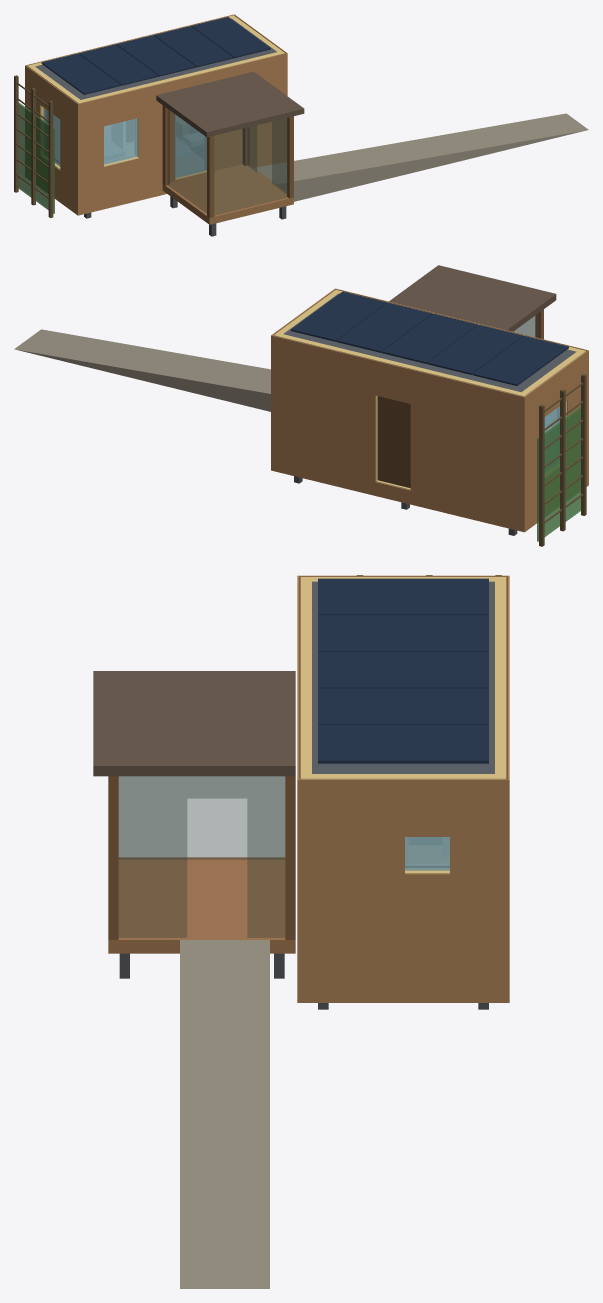
File: cabin-20.obj
The picture shows the model from 3 angles, top to bottom: view 1: azimuth 30°, elevation 25°; view 2: azimuth 150°, elevation 25°; view 3: azimuth 270°, elevation 25°; orthographic projection. The views are drawn at different scales.
Parts seen in each view (by area): view 1: south_rainscreen, ramp_porch-ramp, main_pv, porch_screened-porch_screen_south, porch_screened-porch_roof, porch_screened-porch_deck, west_rainscreen, porch_screened-porch_screen_west, trellis_planting, porch_screened-porch_posts, trellis_posts, opening_D2 (+10 smaller); view 2: north_rainscreen, main_pv, ramp_porch-ramp, porch_screened-porch_roof, west_rainscreen, trellis_planting, opening_D1, trellis_posts, main_roof-membrane, north_ext-insulation, trellis_rails, south_rainscreen (+1 smaller); view 3: east_rainscreen, main_pv, ramp_porch-ramp, porch_screened-porch_roof, porch_screened-porch_screen_east, porch_screened-porch_deck, porch_screened-porch_screen_west, main_roof-membrane, porch_screened-porch_posts, north_ext-insulation, south_ext-insulation, opening_W3 (+2 smaller).
Boxes of the visible parts, left/top/right/bottom form: south_rainscreen: left=77, top=53, right=287, bottom=215; ramp_porch-ramp: left=254, top=113, right=588, bottom=201; main_pv: left=41, top=17, right=270, bottom=94; porch_screened-porch_screen_south: left=214, top=118, right=287, bottom=215; porch_screened-porch_roof: left=156, top=71, right=304, bottom=137; porch_screened-porch_deck: left=162, top=164, right=293, bottom=224; west_rainscreen: left=25, top=65, right=77, bottom=214; porch_screened-porch_screen_west: left=167, top=109, right=206, bottom=213; trellis_planting: left=18, top=102, right=54, bottom=213; porch_screened-porch_posts: left=162, top=105, right=293, bottom=217; trellis_posts: left=14, top=75, right=53, bottom=217; opening_D2: left=175, top=114, right=206, bottom=177; north_rainscreen: left=271, top=335, right=525, bottom=532; main_pv: left=291, top=291, right=568, bottom=385; ramp_porch-ramp: left=14, top=329, right=270, bottom=411; porch_screened-porch_roof: left=389, top=265, right=556, bottom=331; west_rainscreen: left=524, top=350, right=588, bottom=531; trellis_planting: left=537, top=406, right=580, bottom=541; opening_D1: left=377, top=396, right=410, bottom=488; trellis_posts: left=539, top=374, right=586, bottom=546; main_roof-membrane: left=283, top=293, right=576, bottom=392; north_ext-insulation: left=273, top=332, right=527, bottom=489; trellis_rails: left=544, top=382, right=583, bottom=522; south_rainscreen: left=335, top=288, right=588, bottom=484; east_rainscreen: left=299, top=779, right=507, bottom=1002; main_pv: left=318, top=578, right=488, bottom=763; ramp_porch-ramp: left=180, top=940, right=269, bottom=1288; porch_screened-porch_roof: left=93, top=671, right=295, bottom=776; porch_screened-porch_screen_east: left=119, top=776, right=284, bottom=937; porch_screened-porch_deck: left=108, top=857, right=295, bottom=953; porch_screened-porch_screen_west: left=119, top=776, right=284, bottom=859; main_roof-membrane: left=312, top=581, right=494, bottom=773; porch_screened-porch_posts: left=108, top=776, right=295, bottom=939; north_ext-insulation: left=495, top=577, right=506, bottom=779; south_ext-insulation: left=300, top=577, right=311, bottom=779; opening_W3: left=405, top=837, right=449, bottom=870.
Size of the model in its own units: 15.22 by 3.7 by 5.55.
